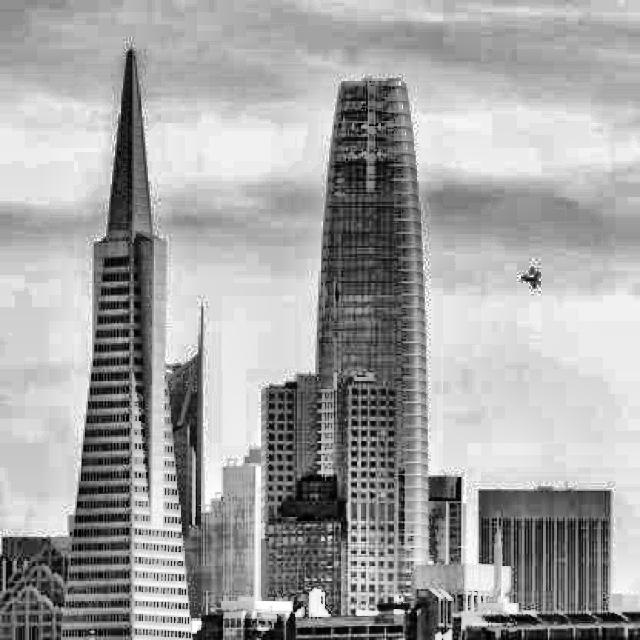F35: (520, 267, 542, 288)
